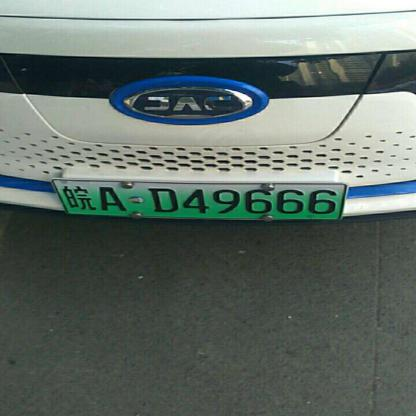lp: (54, 180, 68, 218)
